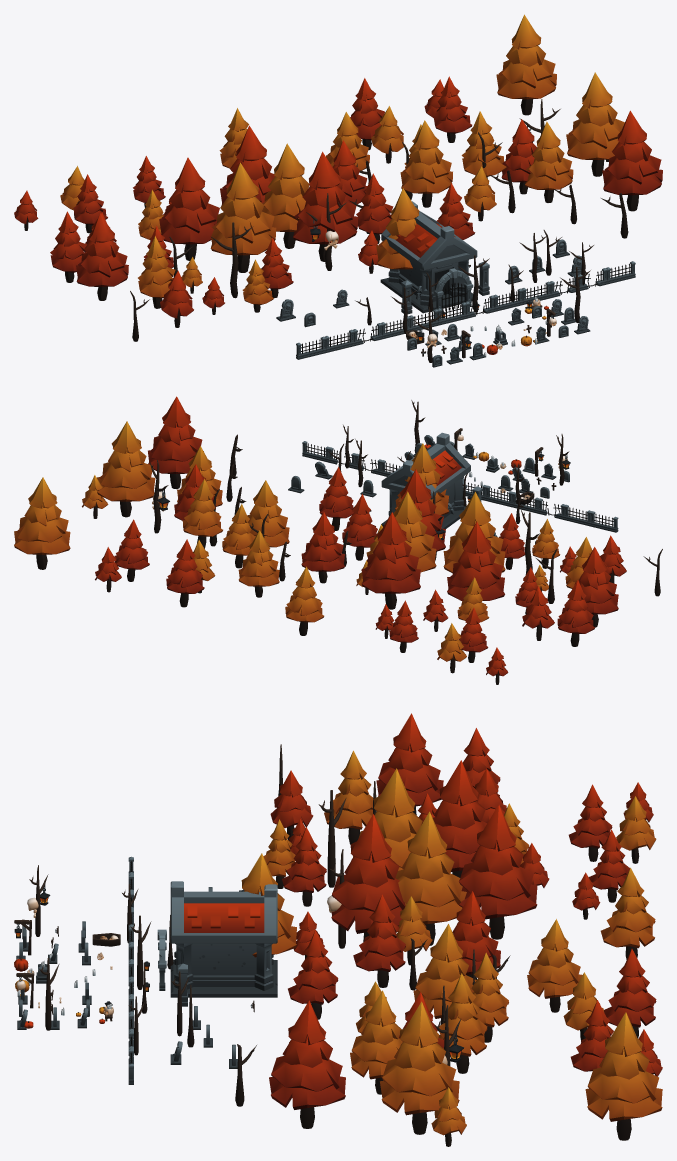
File: level_5.glb
3 renders of one model, top to bottom at view 1: azimuth 30°, elevation 25°; view 2: azimuth 150°, elevation 25°; view 3: azimuth 270°, elevation 25°, orthographic. The views are drawn at different scales.
Visible parts, largest first — view 1: Ortam_3, Ortam_2, Ortam_1, Ortam_4; view 2: Ortam_3, Ortam_2, Ortam_4, Ortam_1; view 3: Ortam_3, Ortam_2, Ortam_1, Ortam_4.
Part boxes in pixels (<box>): Ortam_3: <box>14,14,662,327</box>; Ortam_2: <box>276,201,635,359</box>; Ortam_1: <box>406,267,590,367</box>; Ortam_4: <box>130,79,628,341</box>; Ortam_3: <box>14,396,626,684</box>; Ortam_2: <box>288,425,618,544</box>; Ortam_4: <box>95,434,662,603</box>; Ortam_1: <box>404,400,570,504</box>; Ortam_3: <box>241,713,662,1146</box>; Ortam_2: <box>122,856,277,1084</box>; Ortam_1: <box>14,865,120,1030</box>; Ortam_4: <box>235,744,662,1106</box>.
Bounding box in the file's own units: 80.39 × 14.76 × 63.02.
Materials: 1 (1 with a texture image).
